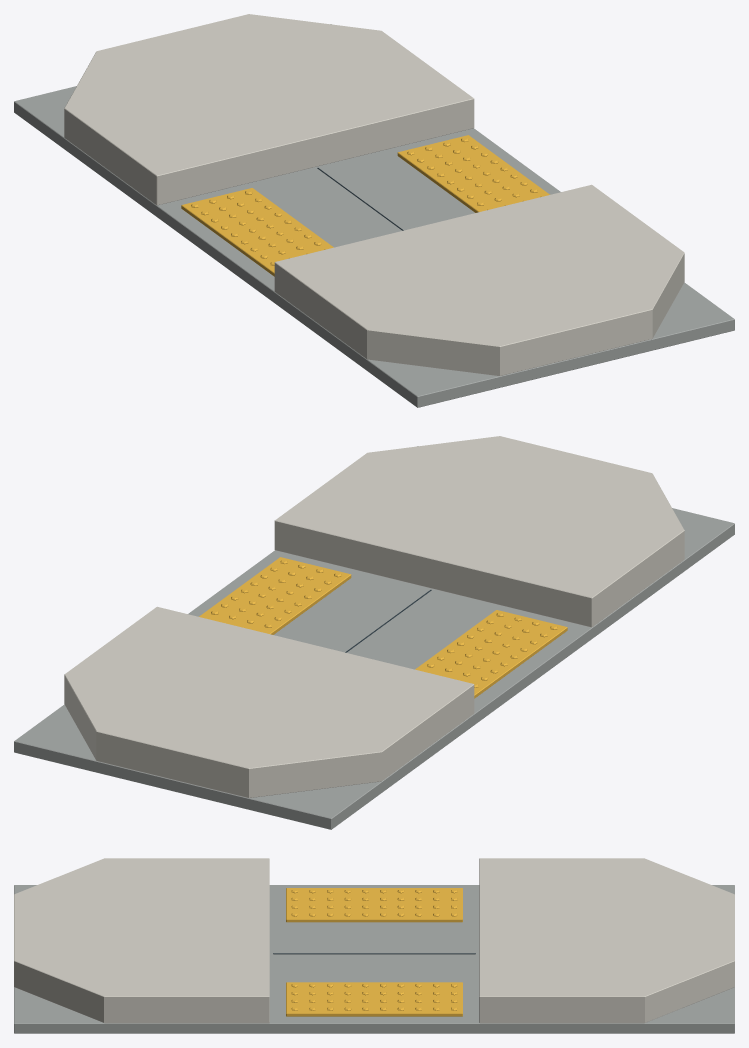
The model's file is b13_pedestrian_median_refuge_island.glb.
3 renders of one model, top to bottom at view 1: azimuth 30°, elevation 25°; view 2: azimuth 150°, elevation 25°; view 3: azimuth 270°, elevation 25°, orthographic. The views are drawn at different scales.
Parts seen in each view (by area): view 1: b13_pedestrian_median_refuge_island; view 2: b13_pedestrian_median_refuge_island; view 3: b13_pedestrian_median_refuge_island.
Part boxes in pixels (x1,y1,x2,y2): b13_pedestrian_median_refuge_island: [14, 14, 734, 407]; b13_pedestrian_median_refuge_island: [14, 436, 734, 829]; b13_pedestrian_median_refuge_island: [14, 858, 734, 1033].
Bounding box in the file's own units: 2 × 0.25 × 4.4.
